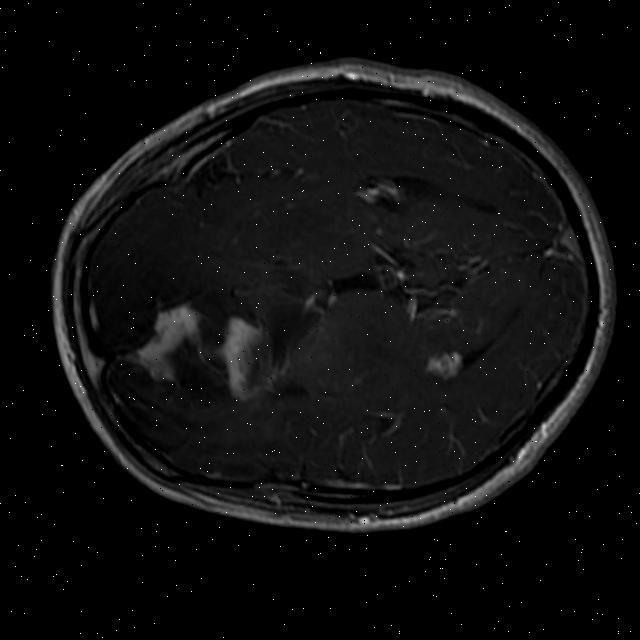Glioma: (114, 294, 221, 391), (205, 306, 283, 406)
